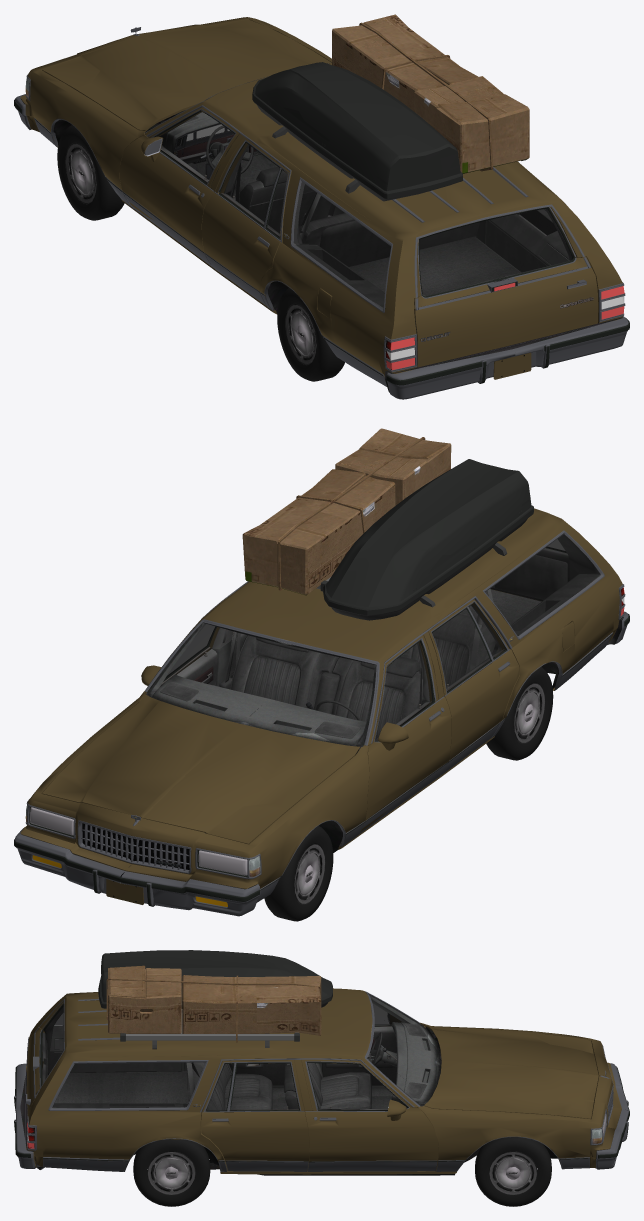
Rendered from chevrolet-caprice-sw.glb.
3 views of the same model, one above another, from view 1: azimuth 30°, elevation 25°; view 2: azimuth 150°, elevation 25°; view 3: azimuth 270°, elevation 25° (orthographic). The views are drawn at different scales.
Visible parts, largest first — view 1: Object_6, Object_19, Object_10, Object_15, Object_7, Object_2, Object_24, Object_16, Object_23, Object_8, Object_12, Object_22; view 2: Object_6, Object_19, Object_10, Object_15, Object_2, Object_7, Object_24, Object_16, Object_23, Object_4, Object_9, Object_8; view 3: Object_6, Object_10, Object_19, Object_2, Object_7, Object_24, Object_15, Object_23, Object_16, Object_20, Object_8, Object_12.
Boxes of the visible parts, box(x1,y1,x2,y2) form: Object_6: box(20, 17, 622, 379); Object_19: box(157, 111, 572, 307); Object_10: box(21, 98, 574, 340); Object_15: box(252, 62, 462, 201); Object_7: box(14, 27, 628, 399); Object_2: box(332, 14, 529, 173); Object_24: box(57, 125, 344, 381); Object_16: box(14, 100, 629, 385); Object_23: box(66, 143, 316, 364); Object_8: box(53, 110, 622, 392); Object_12: box(161, 124, 280, 241); Object_22: box(386, 282, 624, 370); Object_6: box(20, 508, 622, 904); Object_19: box(147, 534, 600, 746); Object_10: box(73, 534, 600, 881); Object_15: box(323, 459, 533, 620); Object_2: box(242, 428, 451, 595); Object_7: box(14, 530, 628, 916); Object_24: box(264, 666, 553, 921); Object_16: box(14, 547, 629, 906); Object_23: box(293, 683, 545, 904); Object_4: box(30, 807, 247, 875); Object_9: box(82, 823, 189, 902); Object_8: box(22, 599, 623, 889); Object_6: box(26, 988, 621, 1174); Object_10: box(42, 993, 439, 1112); Object_19: box(42, 994, 438, 1110); Object_2: box(106, 965, 321, 1042); Object_7: box(14, 991, 628, 1171); Object_24: box(133, 1137, 551, 1206); Object_15: box(98, 950, 332, 1049); Object_23: box(147, 1151, 537, 1195); Object_16: box(14, 1004, 629, 1162); Object_20: box(120, 1009, 299, 1041); Object_8: box(20, 1027, 610, 1175); Object_12: box(207, 1025, 407, 1110).
Bounding box in the file's own units: 8.63 × 8.07 × 22.41.
Materials: 22 (10 with a texture image).
